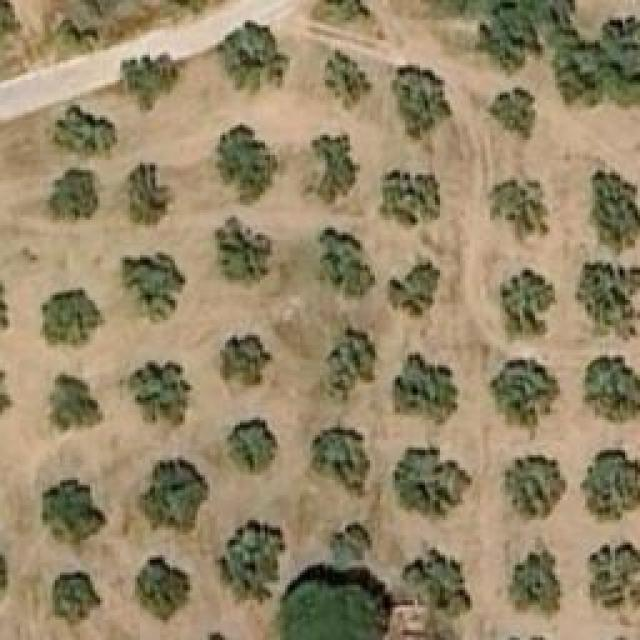Tree: (278, 565, 413, 640), (388, 63, 453, 156), (490, 360, 565, 440), (215, 520, 285, 605), (395, 448, 473, 523), (138, 455, 211, 533), (218, 20, 288, 93), (118, 360, 191, 428), (408, 545, 474, 620), (123, 253, 188, 326), (393, 353, 458, 426), (218, 122, 278, 200), (475, 5, 541, 75), (587, 170, 640, 255), (40, 287, 105, 355), (580, 450, 640, 523), (325, 325, 377, 409), (317, 228, 375, 303), (500, 268, 558, 341), (310, 428, 370, 498), (505, 455, 568, 520), (43, 480, 106, 545), (488, 178, 551, 243), (45, 105, 118, 160), (215, 215, 270, 285), (378, 168, 441, 228), (582, 358, 640, 423), (125, 50, 186, 111), (587, 542, 640, 612), (313, 133, 363, 206), (135, 558, 190, 621), (577, 265, 635, 323), (388, 253, 441, 316), (48, 373, 103, 433), (220, 333, 275, 388), (510, 552, 560, 610), (228, 418, 278, 473), (53, 570, 103, 625), (322, 53, 370, 108), (490, 88, 535, 141), (50, 170, 98, 218), (130, 165, 168, 223), (325, 527, 370, 565), (517, 0, 565, 28), (325, 0, 370, 20)
